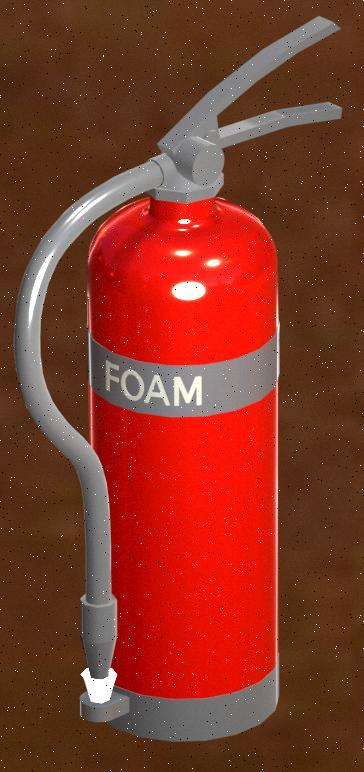Fire Extinguisher: (12, 8, 364, 756)
